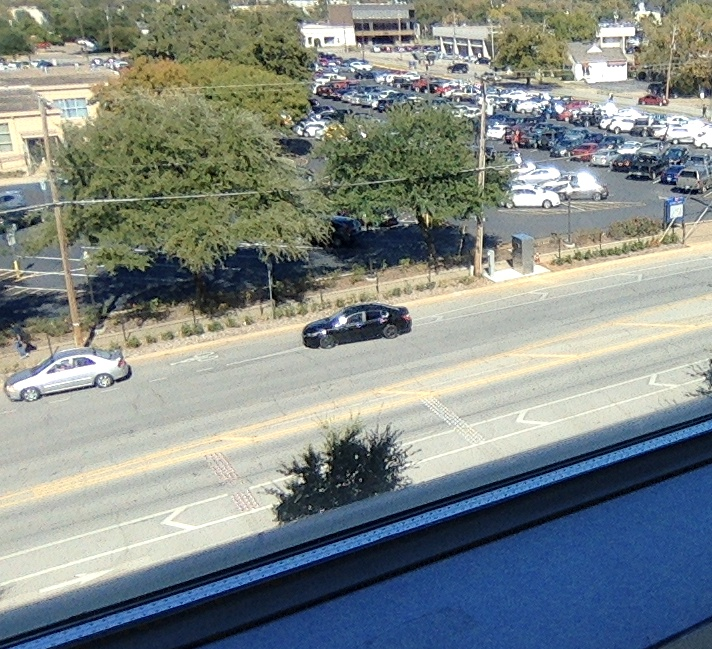car: (300, 300, 412, 349)
